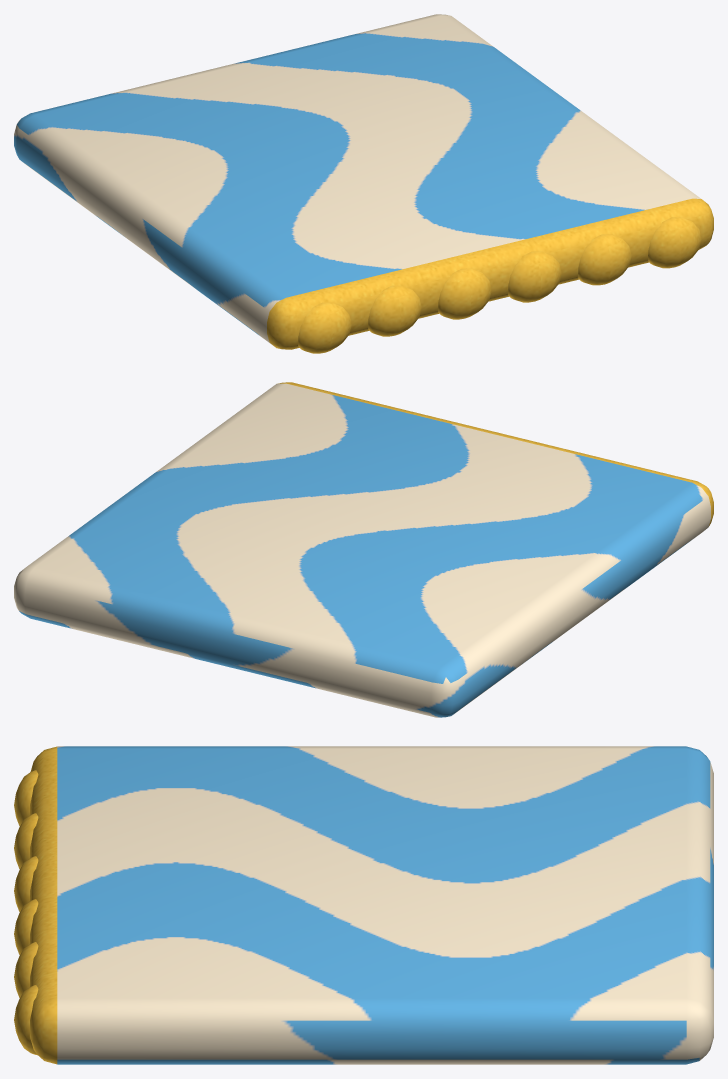
File: pastel_bedspread_03.glb
3 views of the same model, one above another, from view 1: azimuth 30°, elevation 25°; view 2: azimuth 150°, elevation 25°; view 3: azimuth 270°, elevation 25° (orthographic). The views are drawn at different scales.
Visible parts, largest first — view 1: pastel_bedspread_03; view 2: pastel_bedspread_03; view 3: pastel_bedspread_03.
Boxes of the visible parts, left/top/right/bottom form: pastel_bedspread_03: left=14, top=14, right=713, bottom=353; pastel_bedspread_03: left=14, top=382, right=713, bottom=717; pastel_bedspread_03: left=14, top=746, right=713, bottom=1064.
Bounding box in the file's own units: 1.65 × 0.198 × 1.79.
2 materials, 2 textured.
